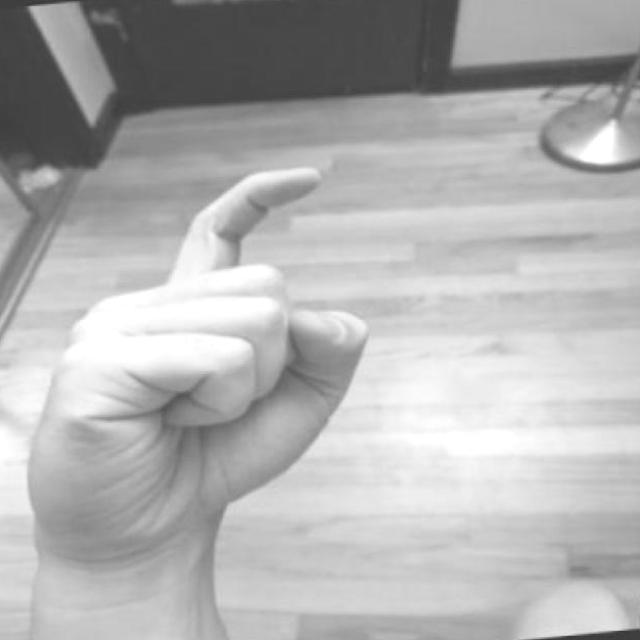X: (5, 164, 383, 592)
